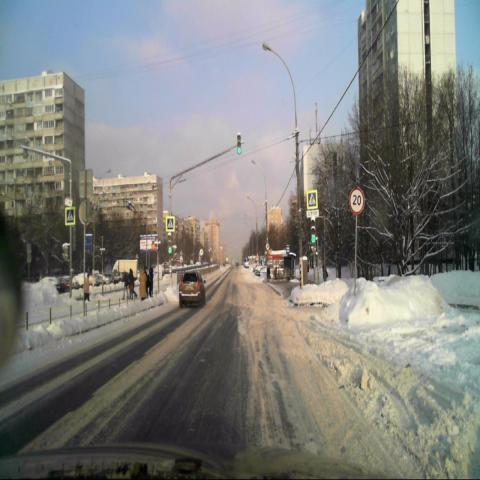3_24: (349, 187, 365, 215)
